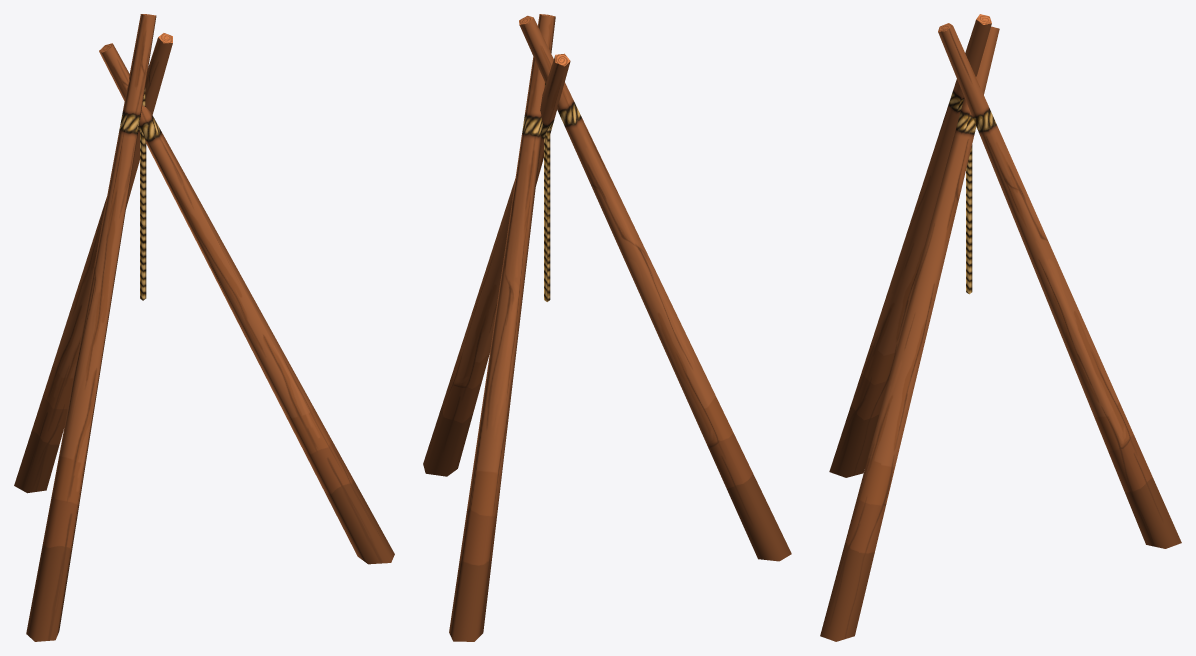
File: campfire_sticks_B.fbx
The picture shows the model from 3 angles, left to right: view 1: azimuth 30°, elevation 25°; view 2: azimuth 150°, elevation 25°; view 3: azimuth 270°, elevation 25°; orthographic projection. The views are drawn at different scales.
Visible parts, largest first — view 1: campfire_sticks_B; view 2: campfire_sticks_B; view 3: campfire_sticks_B.
Boxes of the visible parts, x1,y1,x2,y2 form: campfire_sticks_B: [14, 14, 394, 641]; campfire_sticks_B: [423, 14, 791, 641]; campfire_sticks_B: [820, 14, 1181, 641].
Bounding box in the file's own units: 128 × 180 × 110.
